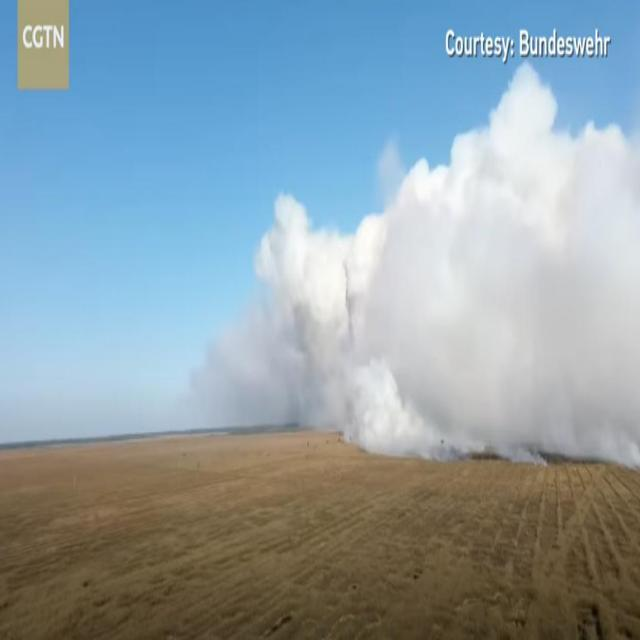Smoke: (208, 67, 640, 476)
